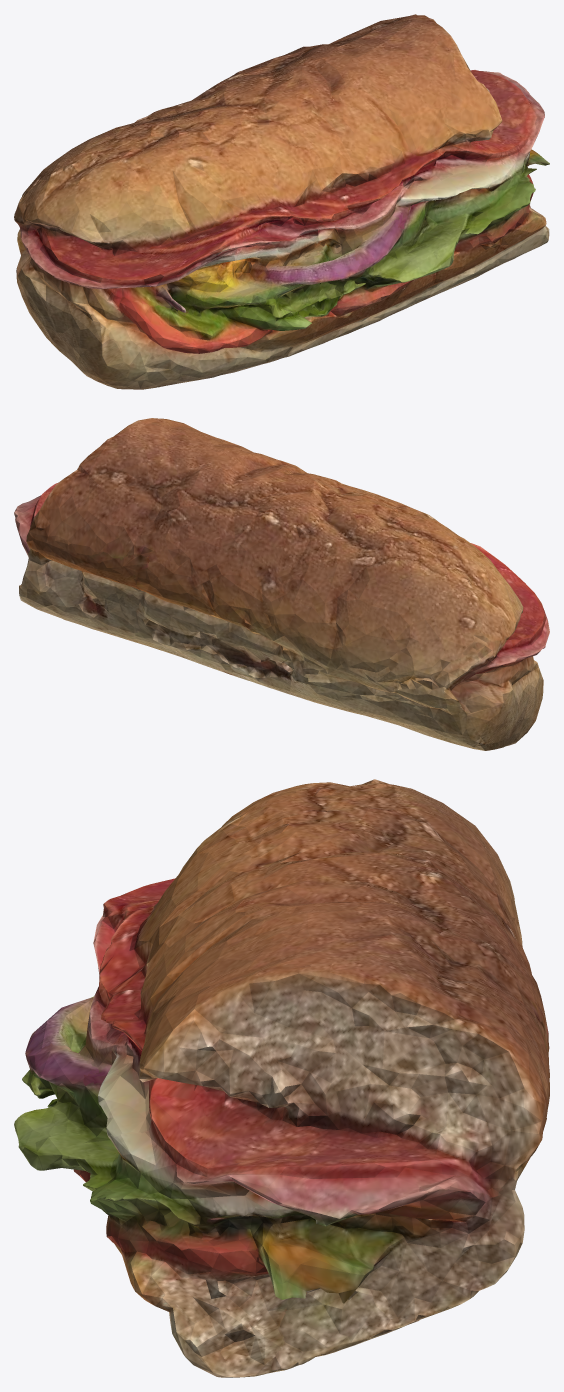
The model's file is sandwitch.glb.
3 views of the same model, one above another, from view 1: azimuth 30°, elevation 25°; view 2: azimuth 150°, elevation 25°; view 3: azimuth 270°, elevation 25° (orthographic). The views are drawn at different scales.
Visible parts, largest first — view 1: sandwitch; view 2: sandwitch; view 3: sandwitch.
Part boxes in pixels (x1,y1,x2,y2): sandwitch: (14,14,549,389); sandwitch: (14,418,549,750); sandwitch: (14,779,549,1377).
Bounding box in the file's own units: 2.63 × 1.26 × 1.44.
1 material, 1 textured.
